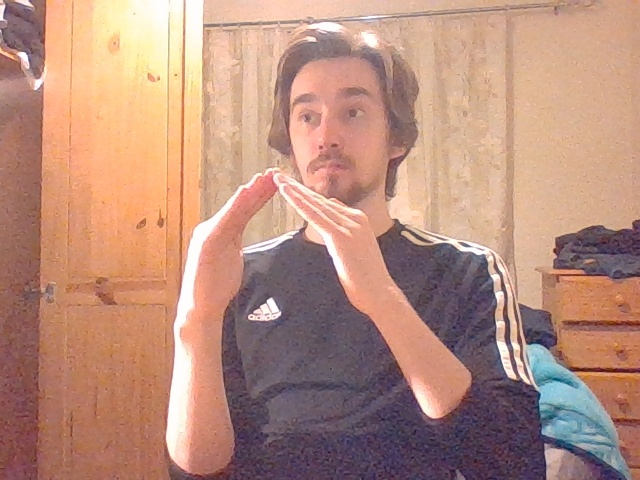home: (189, 168, 375, 255)
